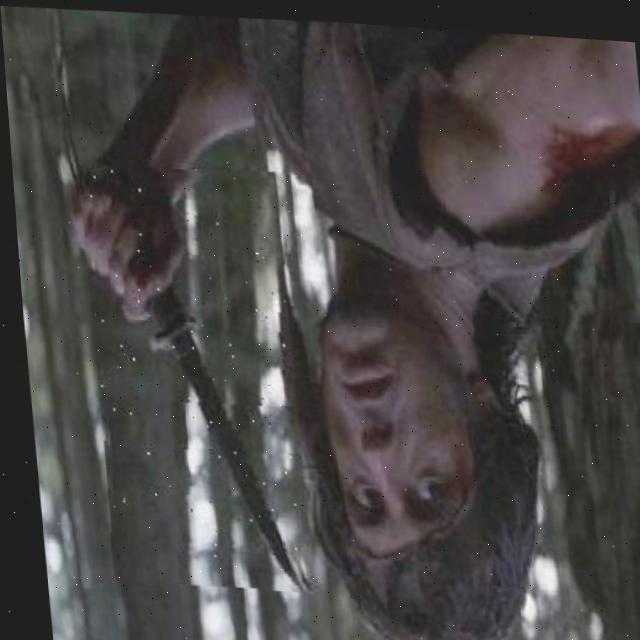knife: (77, 158, 305, 590)
